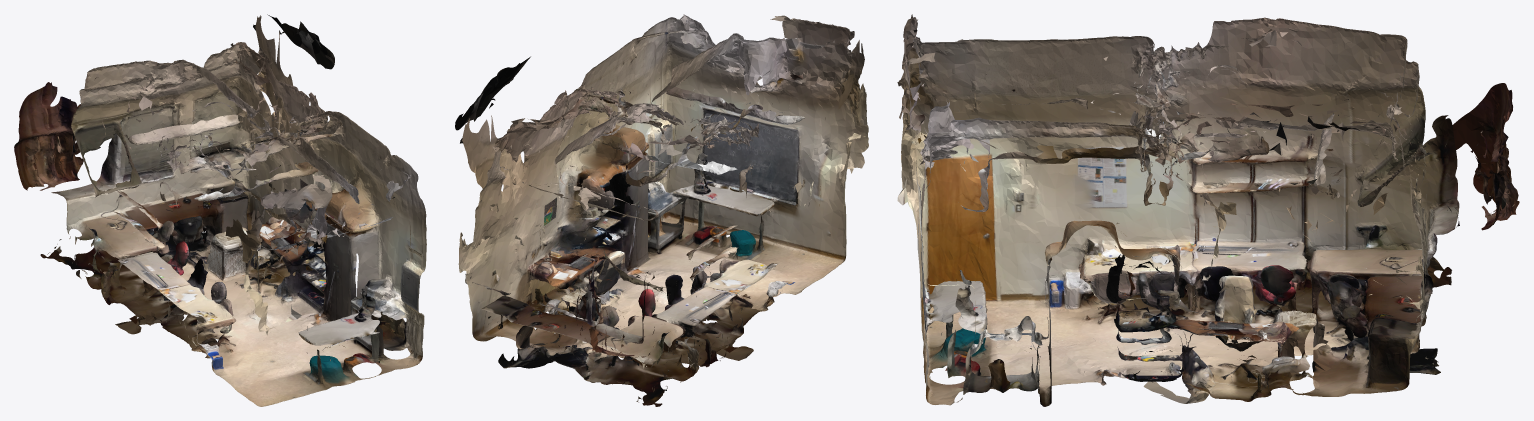
File: scan1_145.glb
The picture shows the model from 3 angles, left to right: view 1: azimuth 30°, elevation 25°; view 2: azimuth 150°, elevation 25°; view 3: azimuth 270°, elevation 25°; orthographic projection. The views are drawn at different scales.
Bounding box in the file's own units: 4.95 × 4.92 × 8.39.
4 materials, 4 textured.
